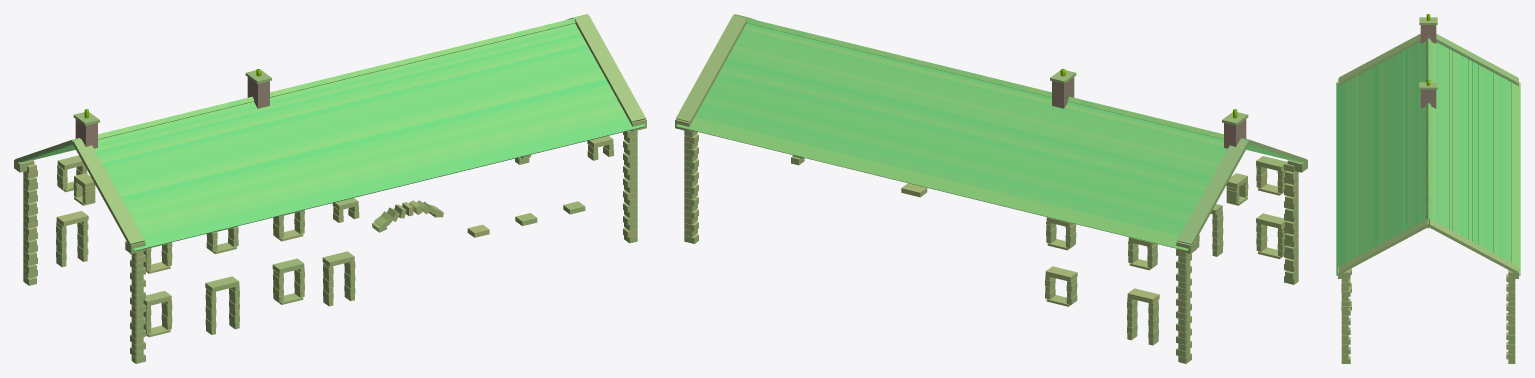
Rendered from SM_Bld_182_Stone.glb.
The picture shows the model from 3 angles, left to right: view 1: azimuth 30°, elevation 25°; view 2: azimuth 150°, elevation 25°; view 3: azimuth 270°, elevation 25°; orthographic projection. The views are drawn at different scales.
Parts seen in each view (by area): view 1: SM_Bld_182_Stone; view 2: SM_Bld_182_Stone; view 3: SM_Bld_182_Stone.
Boxes of the visible parts, <box> form: SM_Bld_182_Stone: <box>14,14,646,363</box>; SM_Bld_182_Stone: <box>675,14,1307,363</box>; SM_Bld_182_Stone: <box>1336,14,1520,363</box>.
Bounding box in the file's own units: 25.93 × 10.13 × 10.39.
